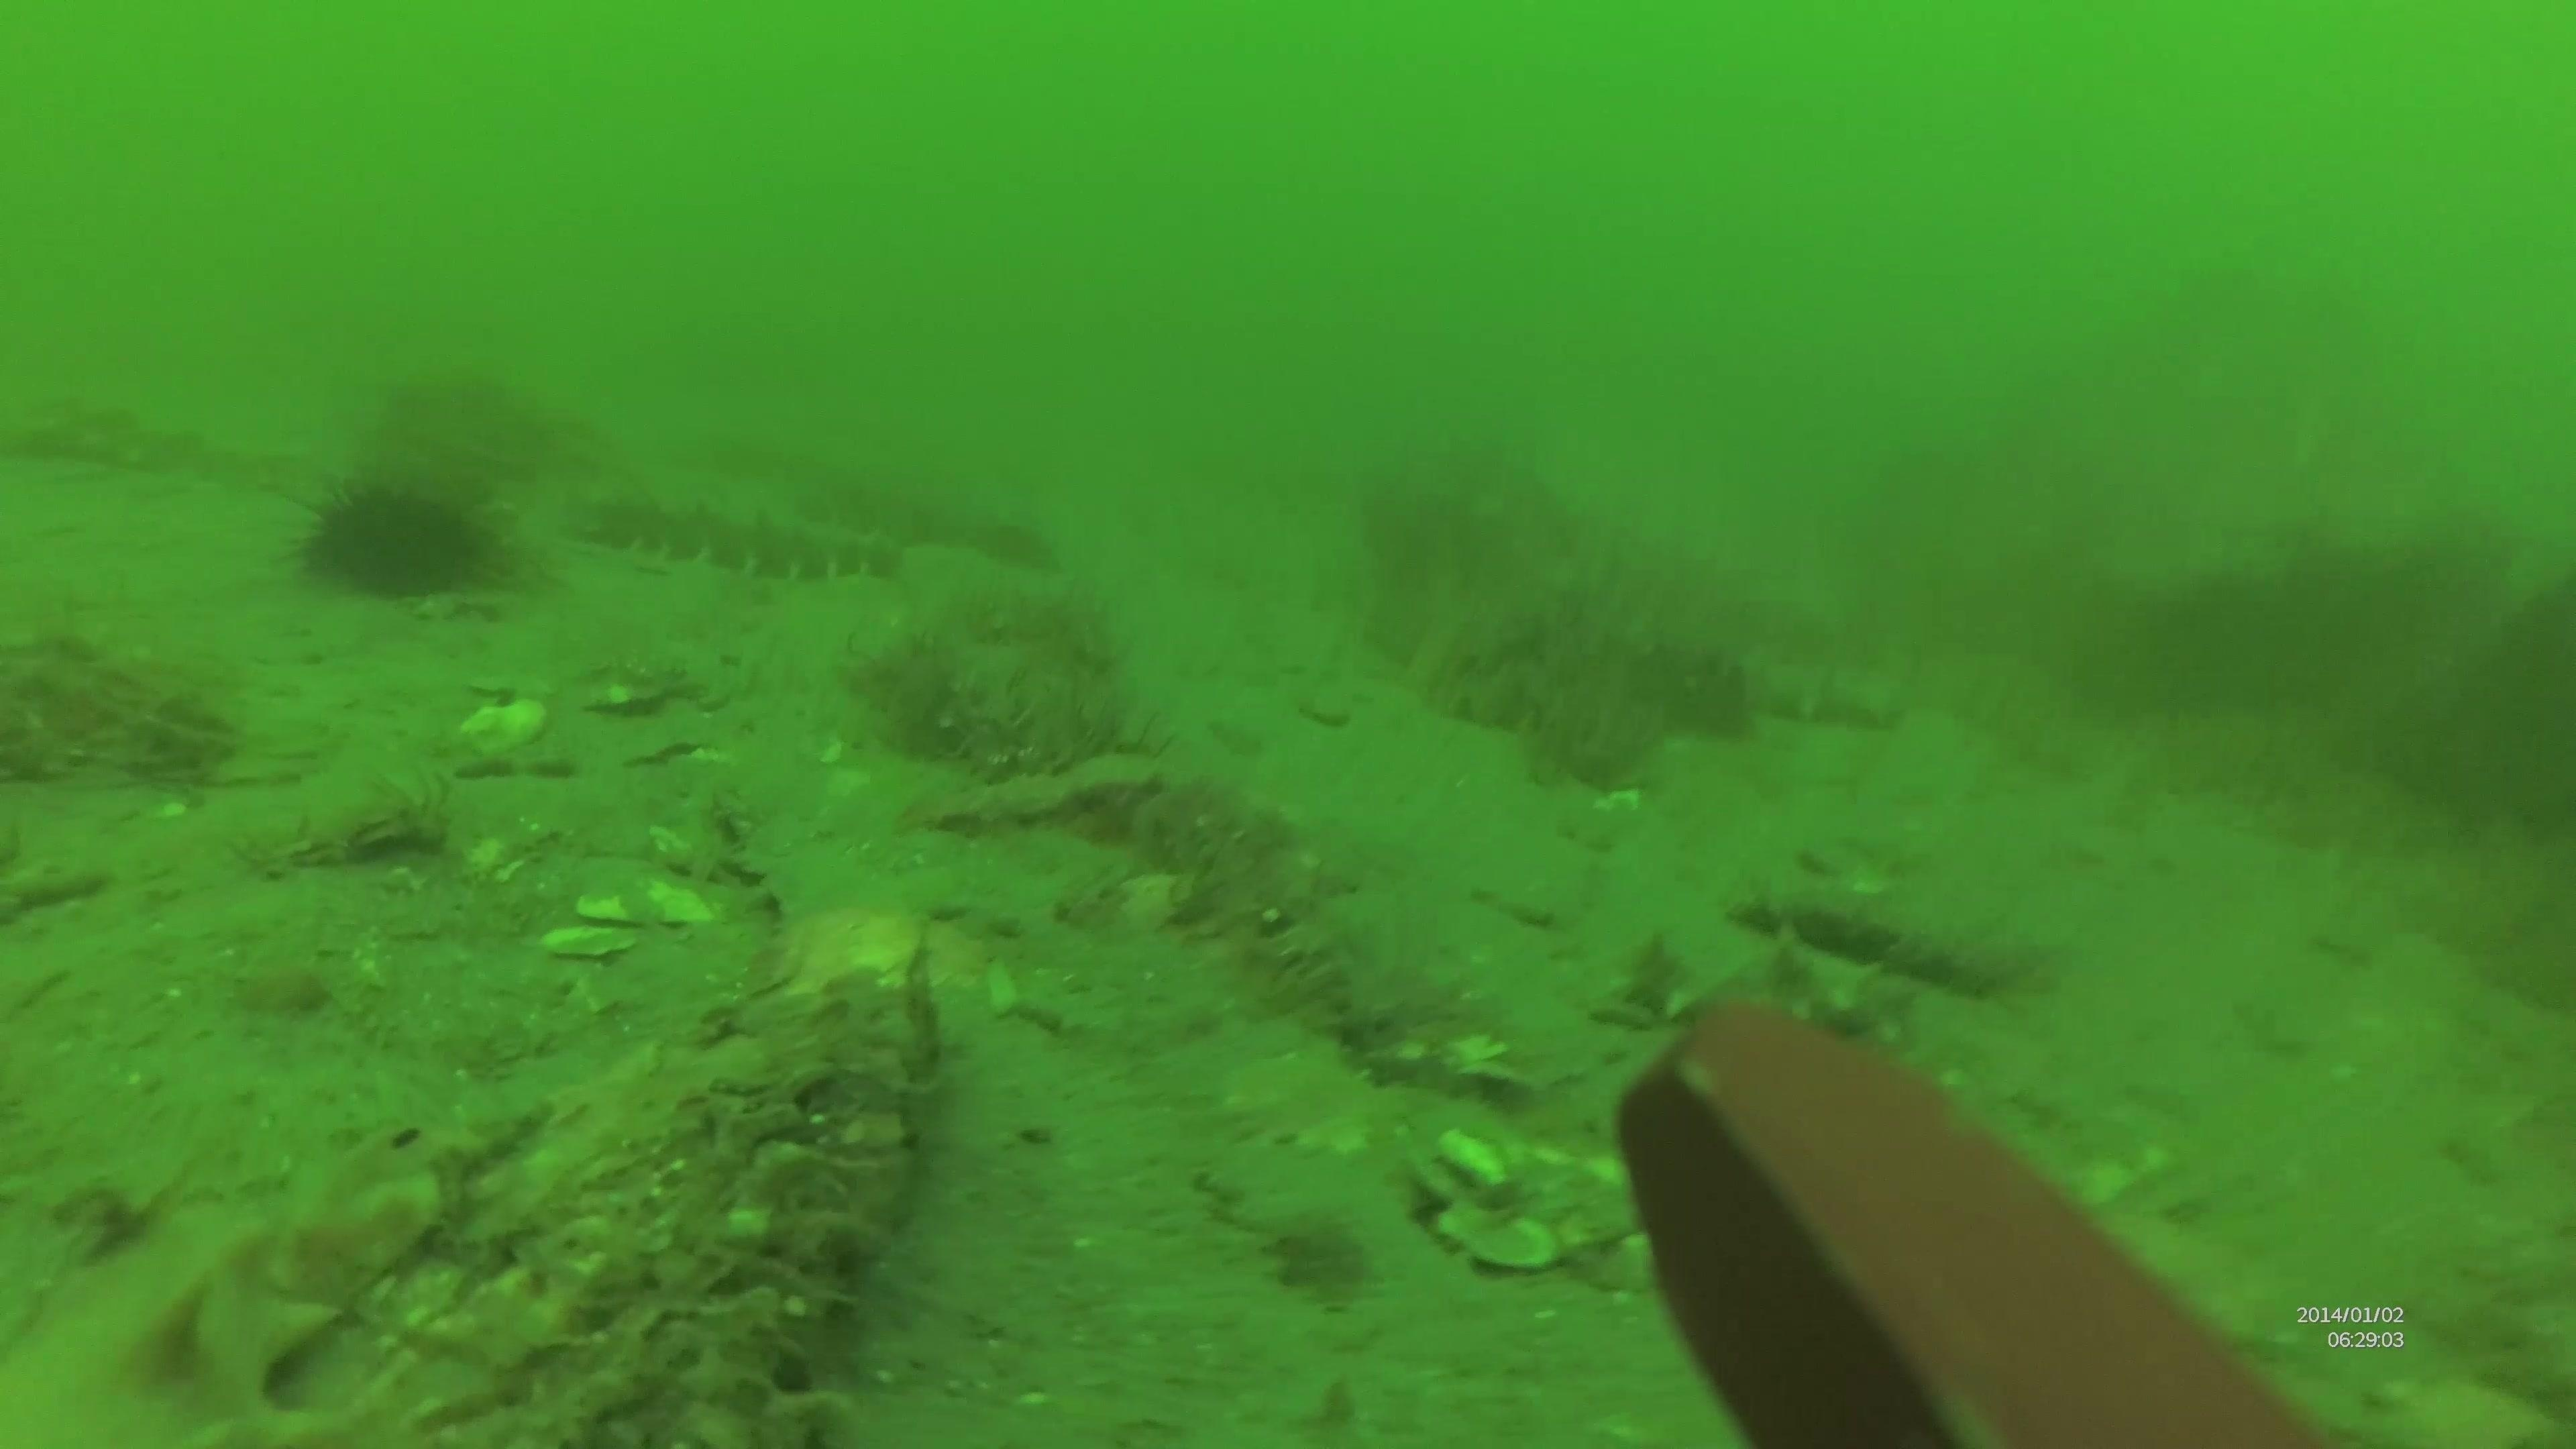echinus: (288, 464, 511, 609)
holothurian: (4, 1116, 517, 1444), (1729, 858, 2058, 1001), (566, 472, 902, 594), (9, 384, 322, 492)
